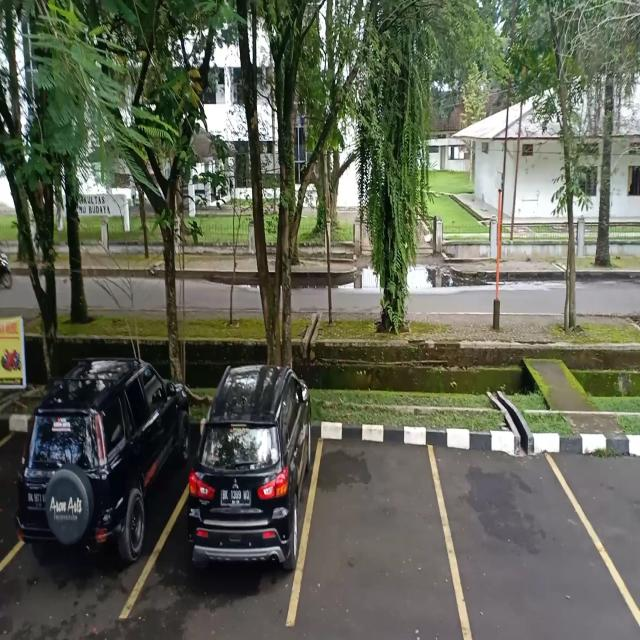empty: (308, 408, 448, 640), (451, 432, 592, 640)
occupied: (12, 383, 173, 616), (170, 403, 314, 625)
